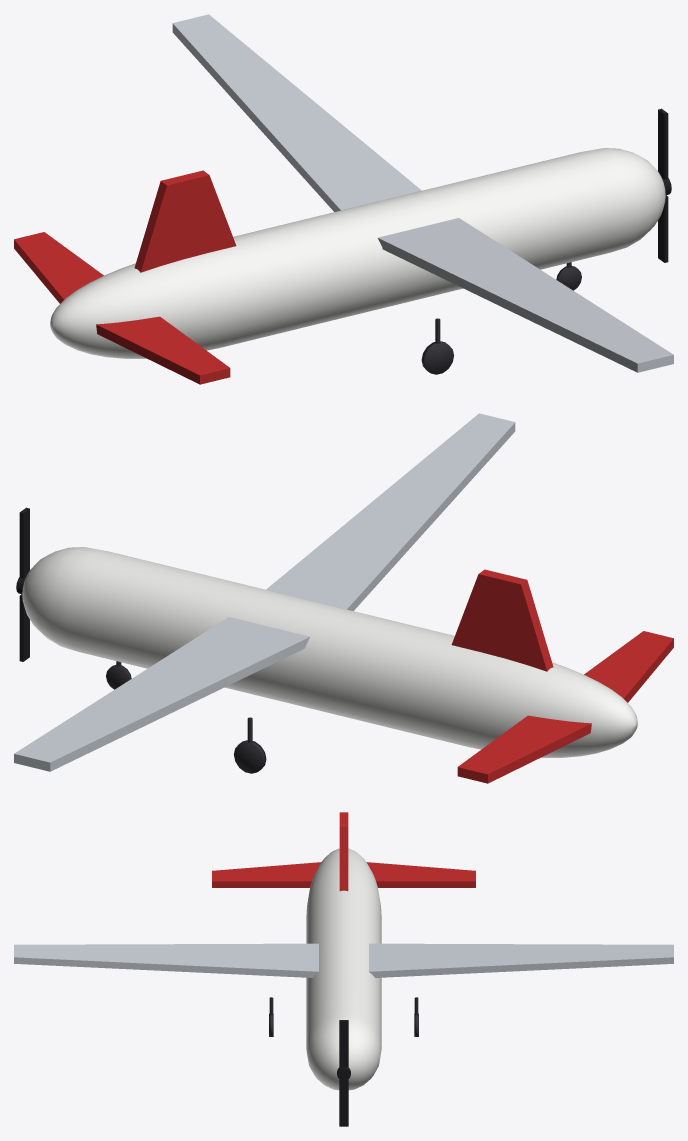
The picture shows the model from 3 angles, top to bottom: view 1: azimuth 30°, elevation 25°; view 2: azimuth 150°, elevation 25°; view 3: azimuth 270°, elevation 25°; orthographic projection. The views are drawn at different scales.
Visible parts, largest first — view 1: fuselage, wings, tail, propellers, gear; view 2: fuselage, wings, tail, propellers, gear; view 3: wings, fuselage, tail, propellers.
Part boxes in pixels (x1,y1,x2,y2): fuselage: (50,148,665,358); wings: (172,14,673,372); tail: (14,170,236,384); propellers: (658,108,671,262); gear: (421,262,581,374); fuselage: (22,547,637,757); wings: (14,413,515,771); tail: (451,569,673,783); propellers: (16,507,29,661); gear: (106,661,266,773); wings: (14,943,673,977); fuselage: (306,848,381,1090); tail: (212,812,475,890); propellers: (337,1020,350,1126).
Bounding box in the file's own units: 8.39 × 2.7 × 11.
